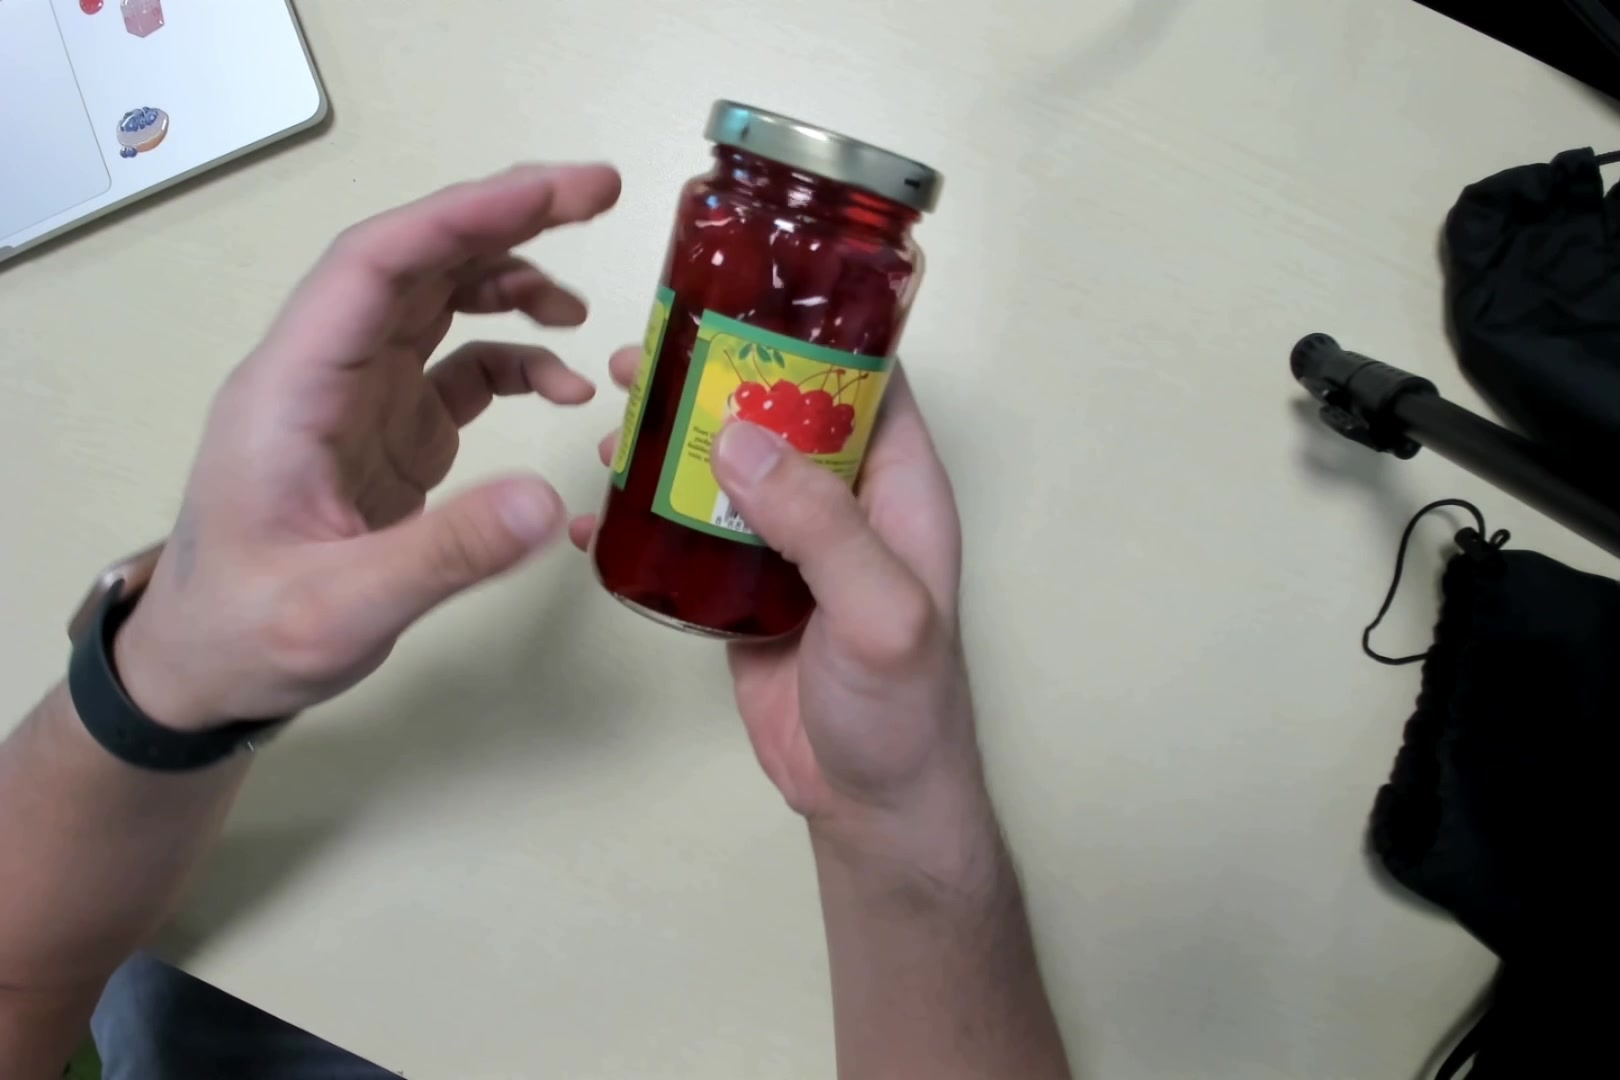OtherBakingNeeds_200-299g_NonHalal_NonHealthy: (589, 90, 937, 636)
